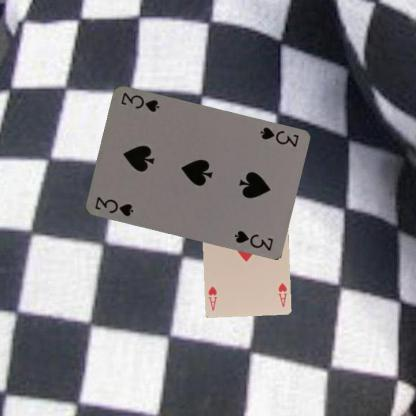3s: (257, 124, 300, 149), (92, 194, 134, 218)
Ah: (275, 280, 288, 308)
